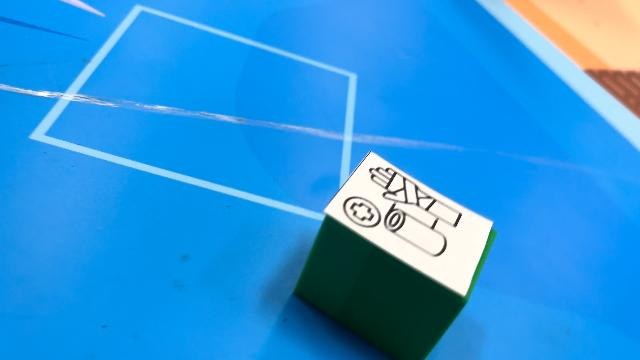bandage: (293, 150, 497, 358)
